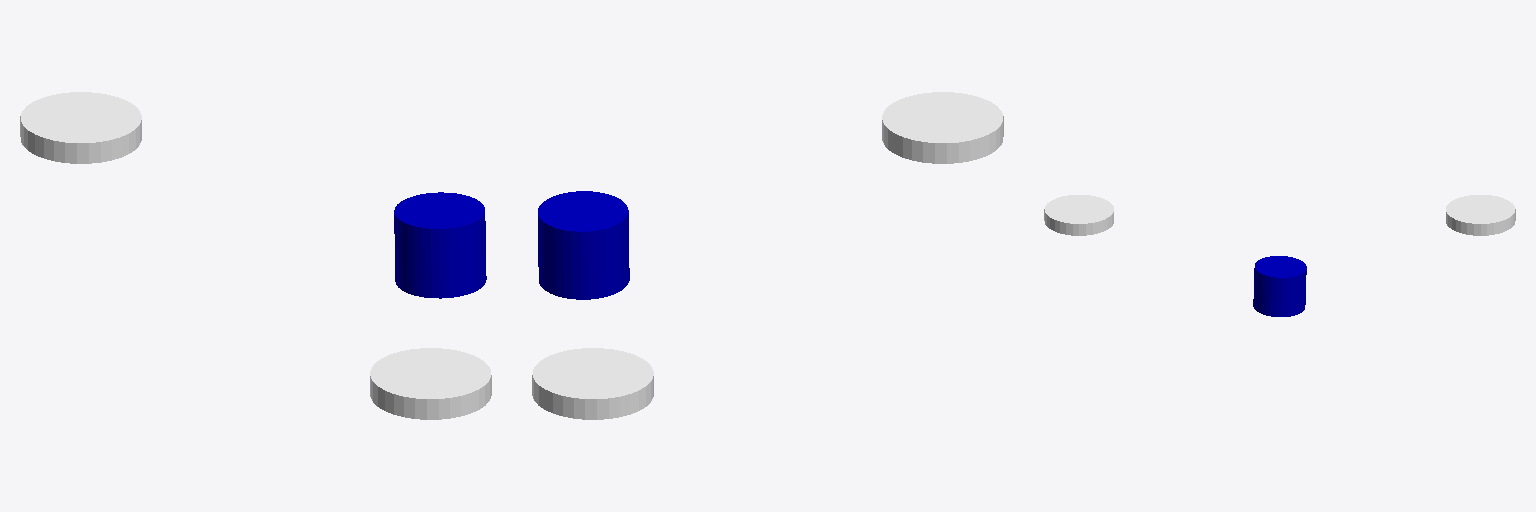
URDF robot description (BaojunE100):
<?xml version="1.0"?>
<robot name="BaojunE100">
  <!-- color map -->
  <material name="red">
    <color rgba="1 0 0 0.5" />
  </material>
  <material name="black">
    <color rgba="1 0 1 1" />
  </material>
  <material name="white">
    <color rgba="1 1 1 1" />
  </material>
  <material name="blue">
    <color rgba="0 0 0.8 1"/>
  </material>
  <material name="gray">
    <color rgba="0.2 0.2 0.2 1" />
  </material>
  <!-- draw vehicle body -->
  <link name="vehicle">
    <!-- vehicle body -->
    <visual>
      <geometry>
        <mesh filename="package://part_based_tracking/../mesh/BaojunE100/BaojunE100.dae" />
      </geometry>
      <material name="white"/>
      <origin rpy="0 0 1.57" xyz="0.7 0 0"/>
    </visual>
  </link>

  <link name="gps">
    <!-- GPS front antenna -->
    <visual>
      <geometry>
        <cylinder length="0.03" radius="0.08"/>
      </geometry>
      <origin rpy="0 0 0" xyz="0 0.46 0"/>
      <material name="white"/>
    </visual>
    <!-- GPS rear antenna -->
    <visual>
      <geometry>
        <cylinder length="0.03" radius="0.08"/>
      </geometry>
      <origin rpy="0 0 0" xyz="0 -0.46 0"/>
      <material name="white"/>
    </visual>
  </link>
  <joint name="vehicle_to_gps" type="fixed">
    <parent link="vehicle"/>
    <child link="gps"/>
    <origin rpy="0 0 0" xyz="0.2 0 1.8"/>
  </joint>

  <!-- draw front lidar -->
  <link name="lidar_front">
    <visual>
      <geometry>
        <cylinder length="0.1" radius="0.06"/>
      </geometry>
      <origin rpy="0 0 0" xyz="0 0 0"/>
      <material name="blue"/>
    </visual>
  </link>
  <joint name="vehicle_to_lidar_front" type="fixed">
    <parent link="vehicle"/>
    <child link="lidar_front"/>
    <origin rpy="0 0.03 1.635" xyz="0.48 0 1.75"/>
  </joint>

</robot>

--- Render facts (derived) ---
The picture shows the robot from 3 angles, left to right: view 1: azimuth 30°, elevation 25°; view 2: azimuth 150°, elevation 25°; view 3: azimuth 270°, elevation 25°; orthographic projection.
Model BaojunE100 with 3 links and 2 joints (2 fixed), rooted at vehicle, posed every joint at zero.
Visible links, largest first — view 1: gps, lidar_front; view 2: gps, lidar_front; view 3: gps, lidar_front.
Link boxes in pixels (x1,y1,x2,y2): gps: [20, 92, 491, 419]; lidar_front: [394, 192, 486, 298]; gps: [532, 92, 1003, 419]; lidar_front: [538, 191, 629, 299]; gps: [1044, 195, 1515, 235]; lidar_front: [1253, 256, 1306, 316].
Bounding box of the posed robot: 0.42 × 1.08 × 0.1168 m (x, y, z).
0 mesh visuals loaded from 1 distinct referenced files (none loaded); not drawn: 1 (reference not matched to a file when rendering).
